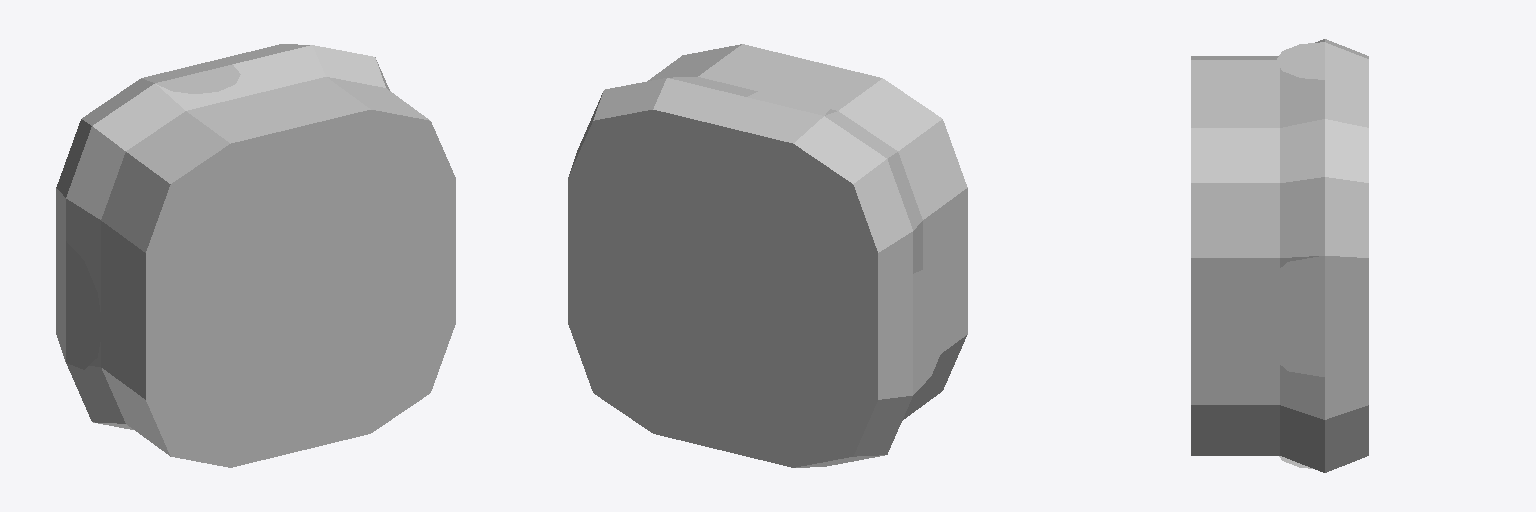
The model's file is block-snow-overhang-low.obj.
3 views of the same model, side by side, from view 1: azimuth 30°, elevation 25°; view 2: azimuth 150°, elevation 25°; view 3: azimuth 270°, elevation 25° (orthographic).
Parts seen in each view (by area): view 1: block-snow-overhang-low; view 2: block-snow-overhang-low; view 3: block-snow-overhang-low.
Boxes of the visible parts, <box> form: block-snow-overhang-low: <box>56,44,455,467</box>; block-snow-overhang-low: <box>568,44,967,467</box>; block-snow-overhang-low: <box>1191,39,1368,472</box>.
Size of the model in its own units: 1.08 by 1.08 by 0.5.